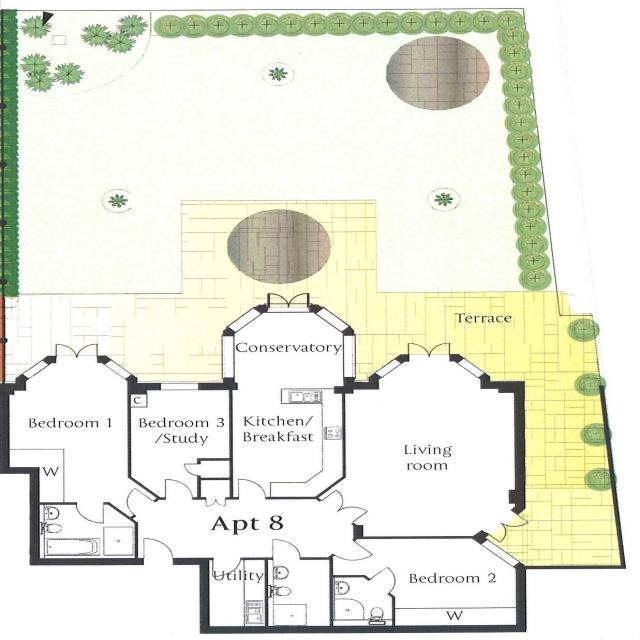DOOR: (331, 539, 375, 562), (125, 487, 157, 517), (142, 538, 175, 565), (367, 566, 397, 595), (73, 502, 106, 524), (164, 478, 193, 500), (271, 539, 301, 560), (237, 478, 267, 499), (211, 558, 242, 578)
DOUBLE DOOR: (319, 488, 370, 525), (266, 291, 310, 313), (54, 342, 100, 363), (406, 341, 452, 362)
ROOM: (313, 342, 531, 544), (0, 343, 162, 524), (221, 292, 357, 500), (324, 533, 527, 633), (127, 382, 238, 500)
WINDOW: (479, 538, 522, 568), (313, 305, 353, 334), (224, 306, 264, 334), (220, 334, 236, 380), (341, 334, 357, 380), (103, 358, 134, 381), (456, 357, 486, 379), (373, 357, 403, 378), (20, 359, 50, 380), (159, 382, 199, 391)
